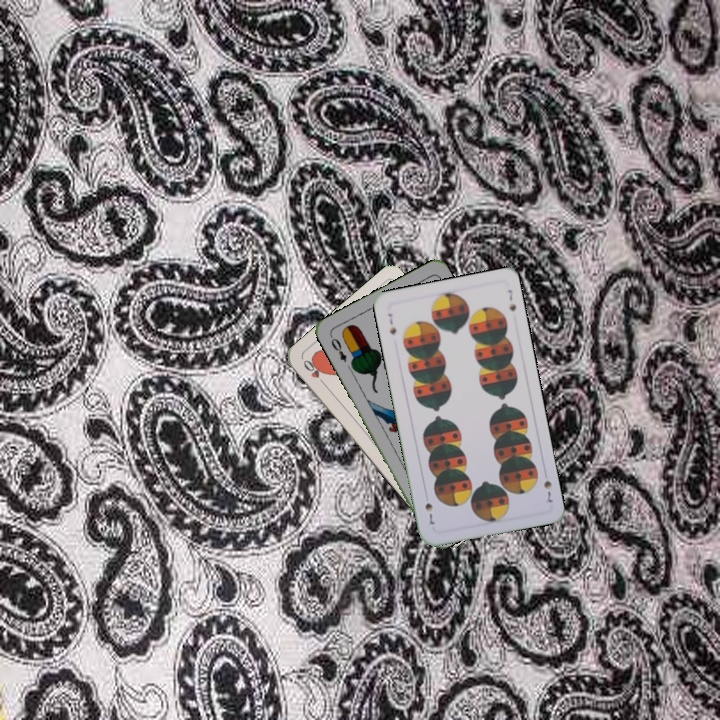EO: (326, 331, 349, 365)
HO: (299, 355, 329, 390)
S7: (383, 309, 399, 338), (540, 476, 555, 506)
